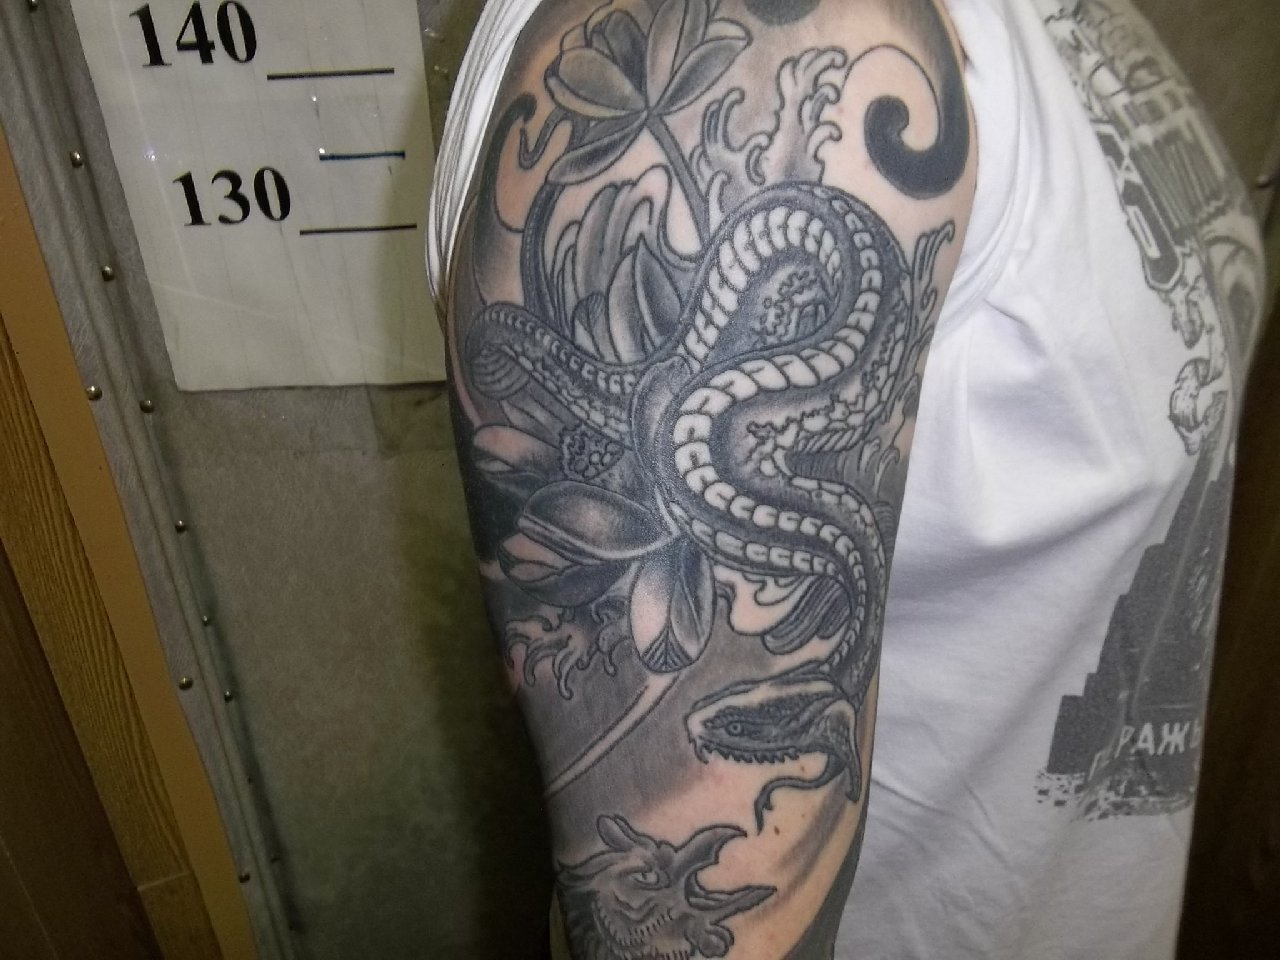tatu7_zmeya: (433, 102, 932, 841)
